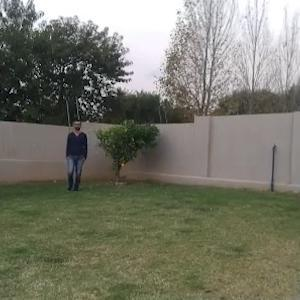follow: (65, 114, 85, 195)
